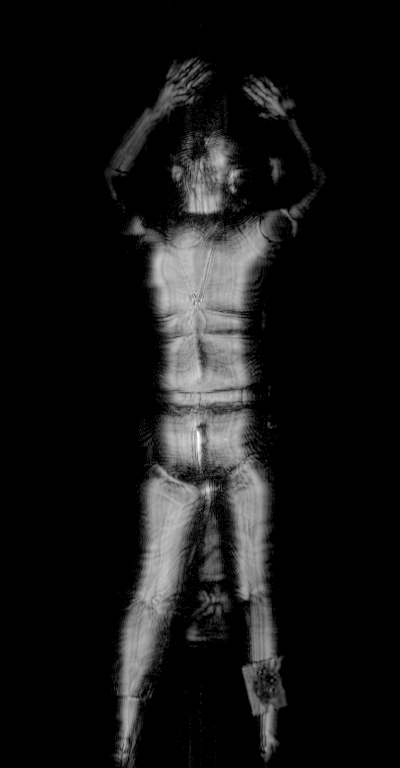head: (165, 123, 249, 199)
others: (240, 659, 290, 720), (255, 207, 299, 248)
person: (102, 57, 325, 768)
